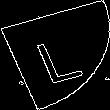L_N: (26, 26, 84, 84)
